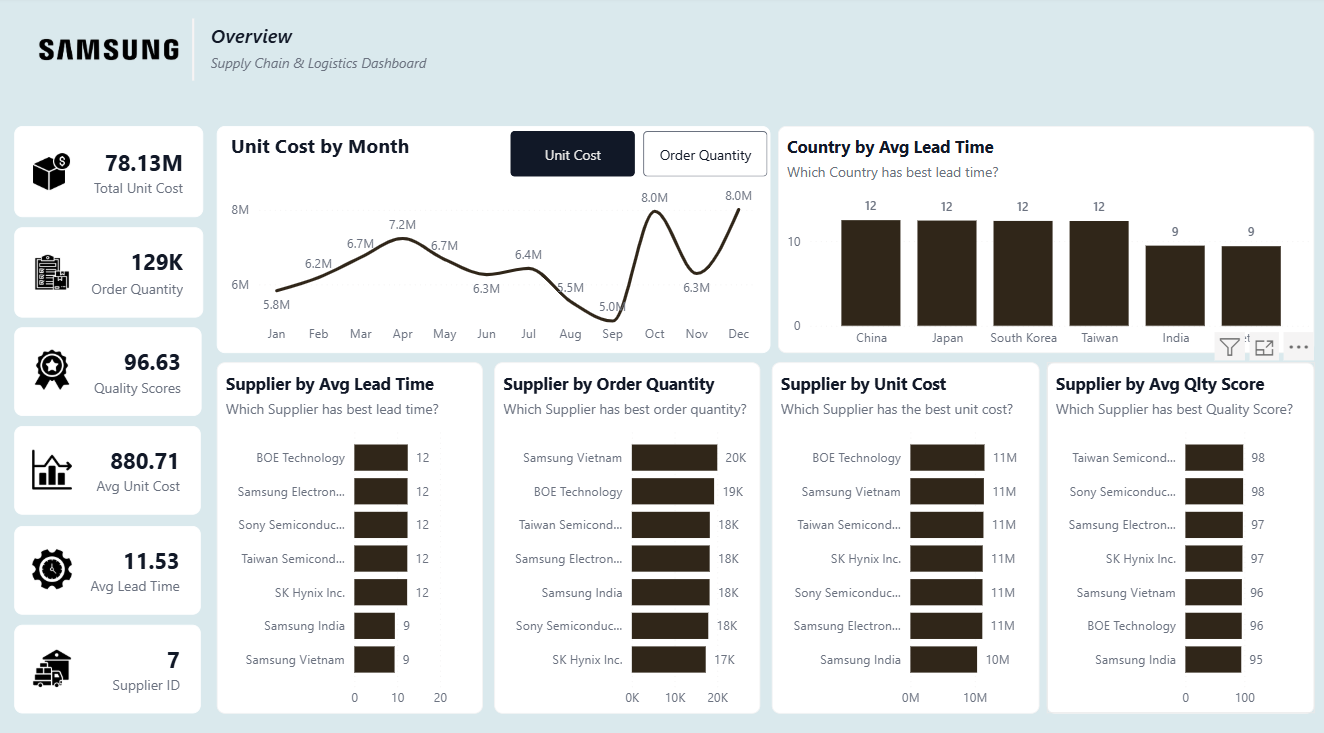

The page's visual inventory and layout, read from the dashboard file:
{"tool":"powerbi","page":{"name":"Supplier","canvas":[1280,720],"ordinal":2},"visuals":[{"type":"textbox","title":"Overview","box":[200.3,25.7,225,48.9],"z":0},{"type":"lineChart","title":"Unit Cost by Month","fields":{"Y":["fact_procurement.Total_Unit_Cost"],"Category":["dim_date.Month_Short"]},"box":[211.1,125.5,534.5,219.6],"z":0,"group":"g2"},{"type":"shape","box":[173.4,22,29.3,59.9],"z":1000},{"type":"advancedSlicerVisual","fields":{"Values":["Cost_ Qty_Supplier.Cost_ Qty_Supplier"]},"box":[489.8,125.5,259.4,54.3],"z":1000,"group":"g2"},{"type":"image","box":[29,24.1,149.6,54.3],"z":2000},{"type":"cardVisual","fields":{"Data":["MeasuresTable.Order_QTY"]},"box":[15.5,223,182.2,86.9],"z":3000},{"type":"cardVisual","fields":{"Data":["MeasuresTable.Avg_Lead_Time"]},"box":[15.5,511.3,179.8,85.7],"z":4000},{"type":"cardVisual","fields":{"Data":["fact_procurement.Avg_quality_scores"]},"box":[15.5,319.5,181,85.7],"z":5000},{"type":"cardVisual","fields":{"Data":["fact_procurement.Avg_Unit_Cost"]},"box":[15.5,414.8,179.8,85.7],"z":6000},{"type":"cardVisual","fields":{"Data":["CountNonNull(dim_supplier.supplier_id)"]},"box":[15.5,606.6,179.8,85.7],"z":7000},{"type":"cardVisual","fields":{"Data":["fact_procurement.Total_Unit_Cost"]},"box":[15.5,125.3,182.2,88.1],"z":8000},{"type":"clusteredBarChart","title":"Supplier by Avg Lead Time","fields":{"Category":["dim_supplier.supplier_name"],"Y":["MeasuresTable.Avg_Lead_Time"]},"box":[211.1,353.5,257,339],"z":9000},{"type":"clusteredBarChart","title":"Supplier by Order Quantity","fields":{"Category":["dim_supplier.supplier_name"],"Y":["MeasuresTable.Order_QTY"]},"box":[479,353.5,257,339],"z":10000},{"type":"clusteredBarChart","title":"Supplier by Unit Cost","fields":{"Category":["dim_supplier.supplier_name"],"Y":["fact_procurement.Total_Unit_Cost"]},"box":[746.8,353.5,258.2,339],"z":11000},{"type":"clusteredColumnChart","title":"Country by Avg Lead Time","fields":{"Category":["dim_supplier.country"],"Y":["MeasuresTable.Avg_Lead_Time"]},"box":[752.8,125.5,517.6,219.6],"z":12000},{"type":"clusteredBarChart","title":"Supplier by Avg Qlty Score","fields":{"Category":["dim_supplier.supplier_name"],"Y":["fact_procurement.Avg_quality_scores"]},"box":[1012.2,353.5,258.2,339],"z":13000},{"type":"group","id":"g1","title":"Group 1","box":[211.1,125.5,538.1,219.6],"z":14000},{"type":"group","id":"g2","title":"Group 2","box":[211.1,125.5,538.1,219.6],"z":14001,"group":"g1"},{"type":"image","box":[31.4,148.4,41,42.2],"z":15000},{"type":"image","box":[31.4,247.3,41,38.6],"z":16000},{"type":"image","box":[31.4,341.4,41,38.6],"z":17000},{"type":"image","box":[31.4,437.9,41,38.6],"z":18000},{"type":"image","box":[29,533.2,45.8,39.8],"z":19000},{"type":"image","box":[31.4,629.8,41,38.6],"z":20000}]}

Visuals, with their boxes in screenshot pixels (x1, y1, x2, y2), scaled from the page's 1280x720 canvas onto the 1324x733 screenshot:
"Overview" textbox: <region>207, 26, 440, 76</region>
"Unit Cost by Month" lineChart: <region>218, 128, 771, 351</region>
shape: <region>179, 22, 210, 83</region>
advancedSlicerVisual - Cost_ Qty_Supplier.Cost_ Qty_Supplier: <region>507, 128, 775, 183</region>
image: <region>30, 25, 185, 80</region>
cardVisual - MeasuresTable.Order_QTY: <region>16, 227, 204, 315</region>
cardVisual - MeasuresTable.Avg_Lead_Time: <region>16, 521, 202, 608</region>
cardVisual - fact_procurement.Avg_quality_scores: <region>16, 325, 203, 413</region>
cardVisual - fact_procurement.Avg_Unit_Cost: <region>16, 422, 202, 510</region>
cardVisual - CountNonNull(dim_supplier.supplier_id): <region>16, 618, 202, 705</region>
cardVisual - fact_procurement.Total_Unit_Cost: <region>16, 128, 204, 217</region>
"Supplier by Avg Lead Time" clusteredBarChart: <region>218, 360, 484, 705</region>
"Supplier by Order Quantity" clusteredBarChart: <region>495, 360, 761, 705</region>
"Supplier by Unit Cost" clusteredBarChart: <region>772, 360, 1040, 705</region>
"Country by Avg Lead Time" clusteredColumnChart: <region>779, 128, 1314, 351</region>
"Supplier by Avg Qlty Score" clusteredBarChart: <region>1047, 360, 1314, 705</region>
"Group 1" group: <region>218, 128, 775, 351</region>
"Group 2" group: <region>218, 128, 775, 351</region>
image: <region>32, 151, 75, 194</region>
image: <region>32, 252, 75, 291</region>
image: <region>32, 348, 75, 387</region>
image: <region>32, 446, 75, 485</region>
image: <region>30, 543, 77, 583</region>
image: <region>32, 641, 75, 680</region>
